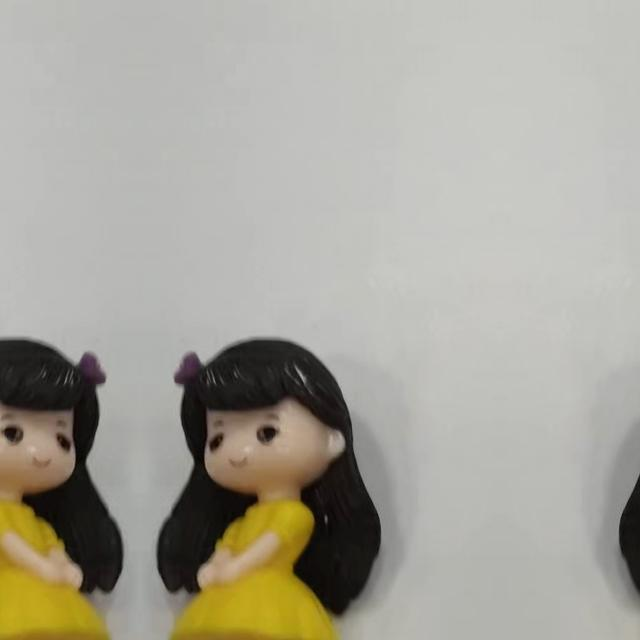woman head: (166, 328, 364, 507), (0, 327, 113, 506), (636, 327, 640, 506)
